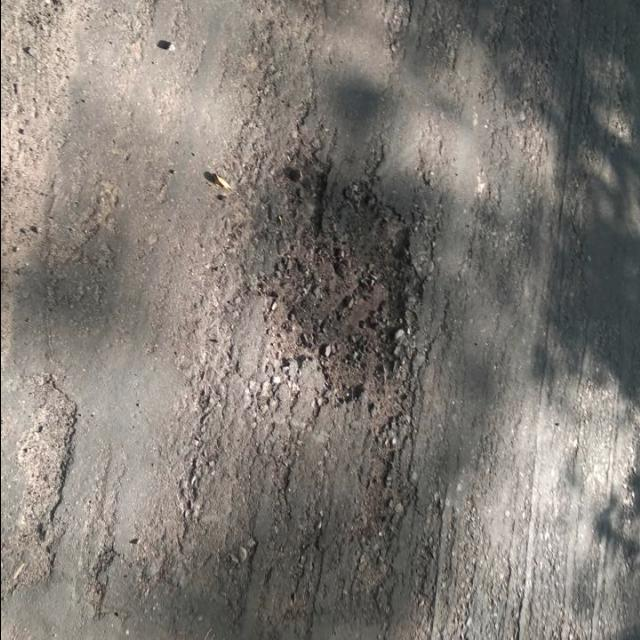pothole: (244, 134, 448, 566), (8, 376, 79, 584), (75, 541, 128, 620)
